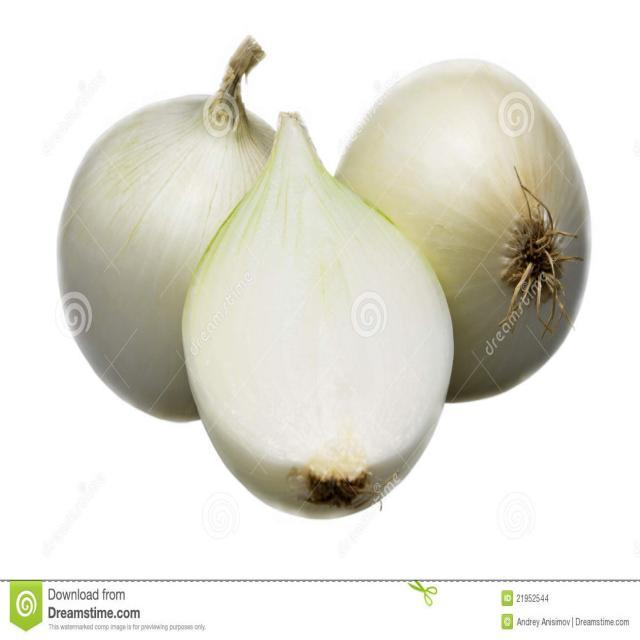onion: (184, 110, 455, 517), (328, 56, 594, 405), (57, 37, 281, 424)
